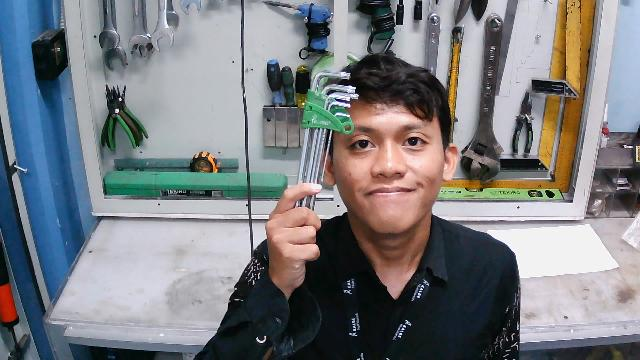kunci_l_bintang: (287, 71, 362, 247)
